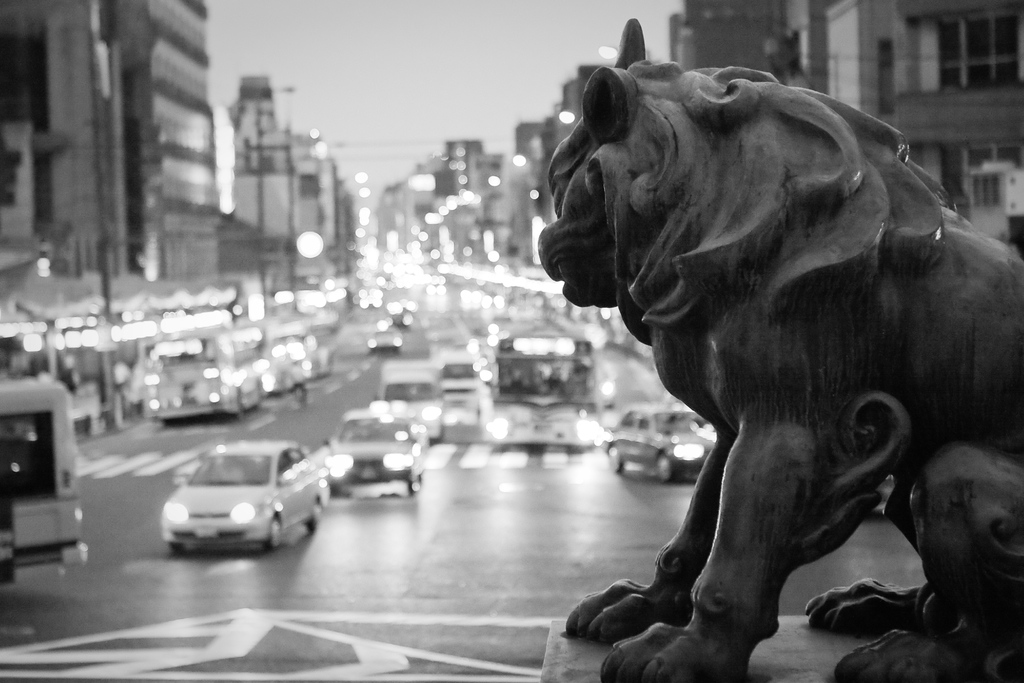mobil: (163, 435, 318, 553)
